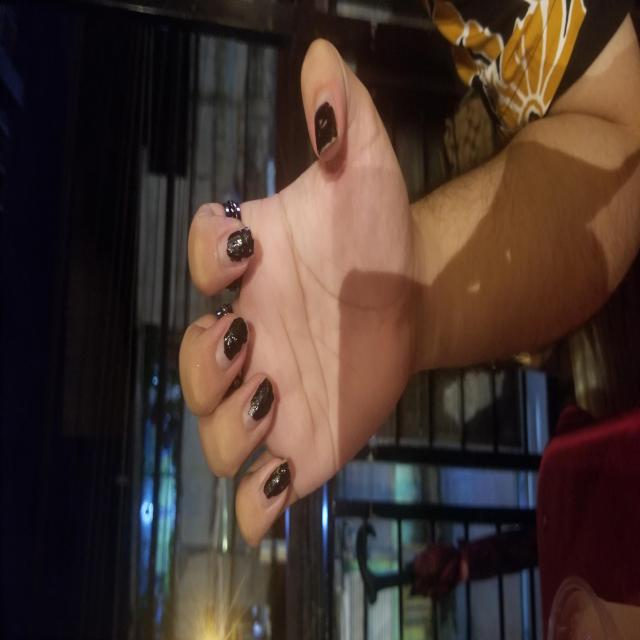E: (102, 176, 604, 418)
